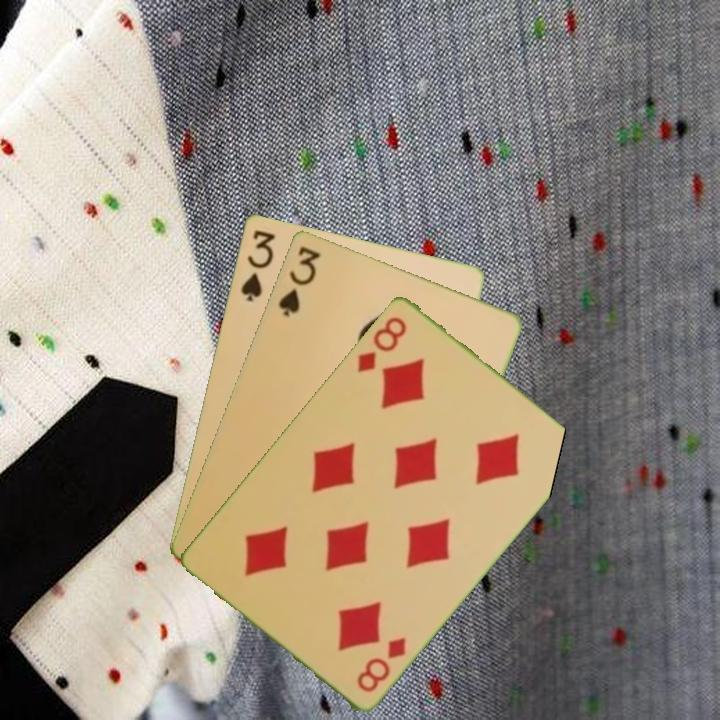3s: (274, 242, 323, 319), (237, 226, 278, 304)
8d: (353, 312, 410, 375), (353, 632, 409, 695)
